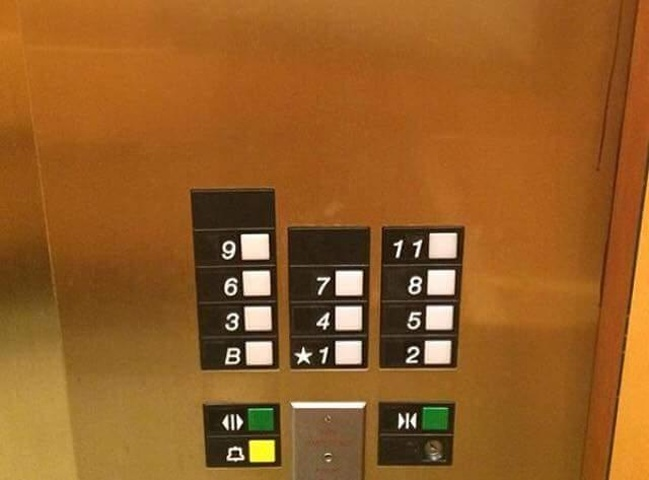11: (381, 225, 467, 266)
2: (377, 334, 461, 373)
3: (197, 299, 280, 338)
4: (288, 299, 371, 340)
5: (378, 296, 463, 336)
6: (193, 262, 280, 303)
7: (285, 262, 373, 303)
8: (380, 262, 464, 303)
9: (192, 228, 278, 265)
B: (199, 335, 281, 372)
alarm: (202, 433, 285, 471)
bt_keyhole: (376, 435, 457, 468)
close: (375, 399, 457, 435)
empty: (187, 186, 277, 230), (284, 224, 372, 265)
open: (199, 400, 283, 436)
s1: (288, 334, 373, 372)
